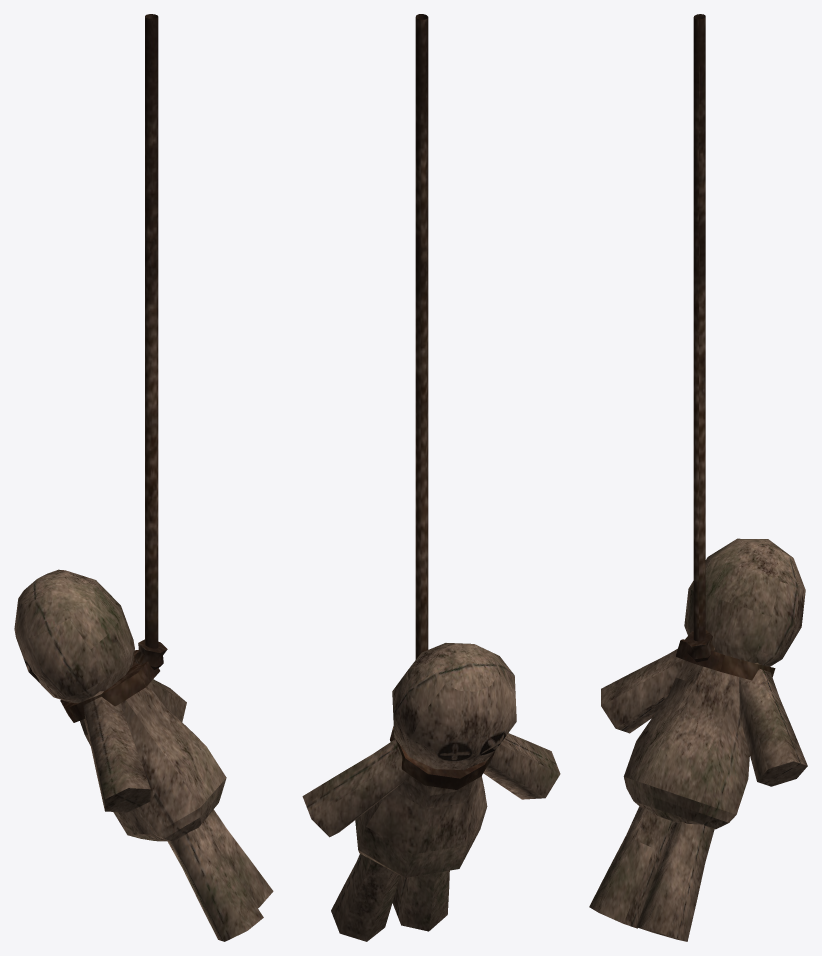
Rendered from hanging_voodoo_doll.glb.
The picture shows the model from 3 angles, left to right: view 1: azimuth 30°, elevation 25°; view 2: azimuth 150°, elevation 25°; view 3: azimuth 270°, elevation 25°; orthographic projection. The views are drawn at different scales.
Visible parts, largest first — view 1: doll_Hanging Doll_0; view 2: doll_Hanging Doll_0; view 3: doll_Hanging Doll_0.
Boxes of the visible parts, <box> form: doll_Hanging Doll_0: <box>14,14,273,941</box>; doll_Hanging Doll_0: <box>302,14,560,941</box>; doll_Hanging Doll_0: <box>589,14,807,941</box>.
Size of the model in its own units: 13.5 by 56.55 by 12.58.
1 material, 1 textured.
